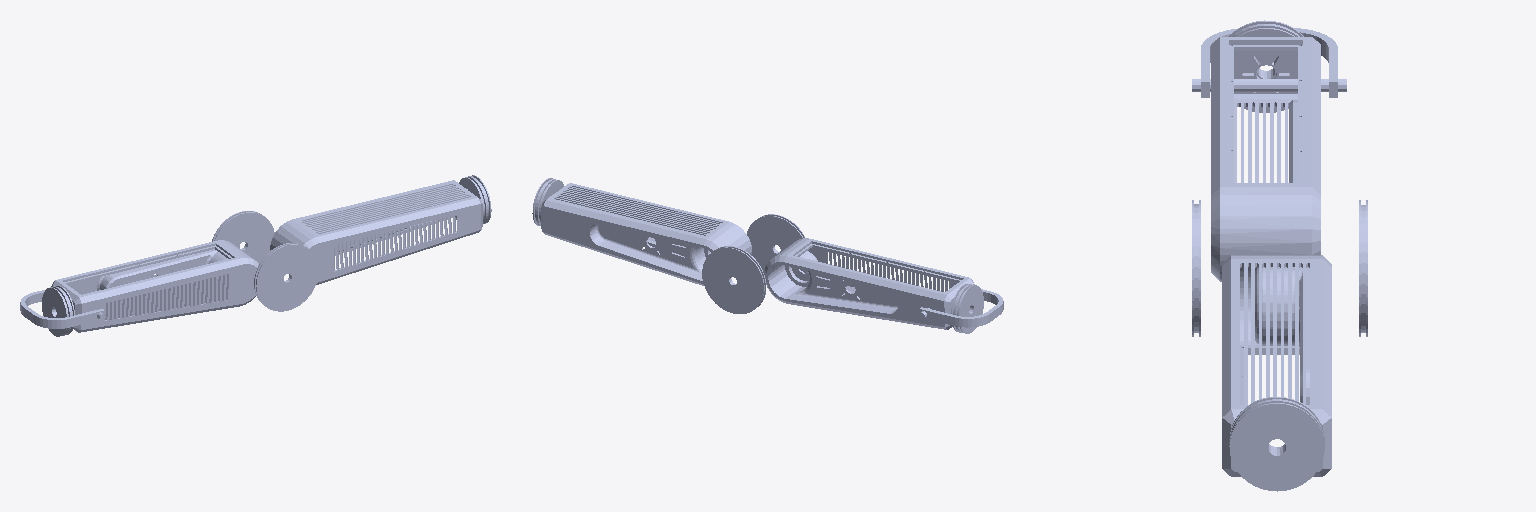
URDF robot description (urdf march 14 5 pm):
<?xml version="1.0" encoding="utf-8"?>
<!-- This URDF was automatically created by SolidWorks to URDF Exporter! Originally created by [author] ([email redacted]) 
     Commit Version: 1.6.0-4-g7f85cfe  Build Version: 1.6.7995.38578
     For more information, please see http://wiki.ros.org/sw_urdf_exporter -->
<robot
  name="urdf march 14 5 pm">
  <link
    name="base_link">
    <inertial>
      <origin
        xyz="0.0341048176202521 -0.0854022801942358 0.112184795428881"
        rpy="0 0 0" />
      <mass
        value="0.770945367382026" />
      <inertia
        ixx="0.00273358105534265"
        ixy="-2.07339807416304E-06"
        ixz="-3.6504790706455E-06"
        iyy="0.00513194515572194"
        iyz="-7.3744966419124E-05"
        izz="0.00619154781631375" />
    </inertial>
    <visual>
      <origin
        xyz="0 0 0"
        rpy="0 0 0" />
      <geometry>
        <mesh
          filename="package://urdf march 14 5 pm/meshes/base_link.STL" />
      </geometry>
      <material
        name="">
        <color
          rgba="0.792156862745098 0.819607843137255 0.933333333333333 1" />
      </material>
    </visual>
    <collision>
      <origin
        xyz="0 0 0"
        rpy="0 0 0" />
      <geometry>
        <mesh
          filename="package://urdf march 14 5 pm/meshes/base_link.STL" />
      </geometry>
    </collision>
  </link>
  <link
    name="arm right">
    <inertial>
      <origin
        xyz="0.147693755620292 -0.0307034723234414 -0.0458663364363569"
        rpy="0 0 0" />
      <mass
        value="0.926238295178665" />
      <inertia
        ixx="0.0032671185422839"
        ixy="0.00345556365717496"
        ixz="-0.000184383716541316"
        iyy="0.0199402950095604"
        iyz="3.84408530599079E-05"
        izz="0.0200980418876309" />
    </inertial>
    <visual>
      <origin
        xyz="0 0 0"
        rpy="0 0 0" />
      <geometry>
        <mesh
          filename="package://urdf march 14 5 pm/meshes/arm right.STL" />
      </geometry>
      <material
        name="">
        <color
          rgba="0.792156862745098 0.819607843137255 0.933333333333333 1" />
      </material>
    </visual>
    <collision>
      <origin
        xyz="0 0 0"
        rpy="0 0 0" />
      <geometry>
        <mesh
          filename="package://urdf march 14 5 pm/meshes/arm right.STL" />
      </geometry>
    </collision>
  </link>
  <joint
    name="pitch1_1"
    type="revolute">
    <origin
      xyz="0.129094368056422 -0.0605160670373923 0.114827219918103"
      rpy="-1.5707963267949 0.155376521193421 0" />
    <parent
      link="base_link" />
    <child
      link="arm right" />
    <axis
      xyz="0 0 -1" />
    <limit
      lower="0"
      upper="0"
      effort="0"
      velocity="0" />
  </joint>
  <link
    name="wheel2_1">
    <inertial>
      <origin
        xyz="0.047760700796397 -0.000473376384485746 -0.0632795010326599"
        rpy="0 0 0" />
      <mass
        value="0.14809674935793" />
      <inertia
        ixx="0.000102379878238783"
        ixy="-1.22197314763427E-05"
        ixz="-1.68025630456076E-06"
        iyy="0.000187907888373725"
        iyz="1.19957588949106E-05"
        izz="0.000102317709183706" />
    </inertial>
    <visual>
      <origin
        xyz="0 0 0"
        rpy="0 0 0" />
      <geometry>
        <mesh
          filename="package://urdf march 14 5 pm/meshes/wheel2_1.STL" />
      </geometry>
      <material
        name="">
        <color
          rgba="0.792156862745098 0.819607843137255 0.933333333333333 1" />
      </material>
    </visual>
    <collision>
      <origin
        xyz="0 0 0"
        rpy="0 0 0" />
      <geometry>
        <mesh
          filename="package://urdf march 14 5 pm/meshes/wheel2_1.STL" />
      </geometry>
    </collision>
  </link>
  <joint
    name="roll2_1"
    type="revolute">
    <origin
      xyz="0.398300525253841 -0.00732850455591963 -0.059842422751485"
      rpy="3.14159265358979 0.7761492821391 -1.5707963267949" />
    <parent
      link="arm right" />
    <child
      link="wheel2_1" />
    <axis
      xyz="0.137448148765483 -0.981275802189932 -0.134928894005126" />
    <limit
      lower="0"
      upper="0"
      effort="0"
      velocity="0" />
  </joint>
  <link
    name="arm left">
    <inertial>
      <origin
        xyz="0.0837032855426187 0.127701563962862 -0.0854762273206825"
        rpy="0 0 0" />
      <mass
        value="0.934896875307156" />
      <inertia
        ixx="0.0156201593013683"
        ixy="-0.00836153097743561"
        ixz="-0.000111612538948277"
        iyy="0.00800502818283903"
        iyz="-0.00017056045782221"
        izz="0.0204248713539629" />
    </inertial>
    <visual>
      <origin
        xyz="0 0 0"
        rpy="0 0 0" />
      <geometry>
        <mesh
          filename="package://urdf march 14 5 pm/meshes/arm left.STL" />
      </geometry>
      <material
        name="">
        <color
          rgba="0.792156862745098 0.819607843137255 0.933333333333333 1" />
      </material>
    </visual>
    <collision>
      <origin
        xyz="0 0 0"
        rpy="0 0 0" />
      <geometry>
        <mesh
          filename="package://urdf march 14 5 pm/meshes/arm left.STL" />
      </geometry>
    </collision>
  </link>
  <joint
    name="pitch1_2"
    type="revolute">
    <origin
      xyz="-0.0609056319435783 -0.032516092037392 0.114827219918103"
      rpy="1.5707963267949 0.963061067969326 -3.14159265358979" />
    <parent
      link="base_link" />
    <child
      link="arm left" />
    <axis
      xyz="0 0 -1" />
    <limit
      lower="0"
      upper="0"
      effort="0"
      velocity="0" />
  </joint>
  <link
    name="wheel2_2">
    <inertial>
      <origin
        xyz="-0.295787810575174 0.104773090790362 0.181203468170097"
        rpy="0 0 0" />
      <mass
        value="0.148096749357929" />
      <inertia
        ixx="0.00014740423663835"
        ixy="3.50759667167694E-05"
        ixz="-2.86310746498393E-05"
        iyy="0.000126993219737585"
        iyz="-2.14879944042932E-05"
        izz="0.000118208019420278" />
    </inertial>
    <visual>
      <origin
        xyz="0 0 0"
        rpy="0 0 0" />
      <geometry>
        <mesh
          filename="package://urdf march 14 5 pm/meshes/wheel2_2.STL" />
      </geometry>
      <material
        name="">
        <color
          rgba="0.792156862745098 0.819607843137255 0.933333333333333 1" />
      </material>
    </visual>
    <collision>
      <origin
        xyz="0 0 0"
        rpy="0 0 0" />
      <geometry>
        <mesh
          filename="package://urdf march 14 5 pm/meshes/wheel2_2.STL" />
      </geometry>
    </collision>
  </link>
  <joint
    name="roll2_2"
    type="revolute">
    <origin
      xyz="0.330776432232011 -0.0073285045559196 -0.0878423977514851"
      rpy="3.14159265358979 0.549642206871802 -1.5707963267949" />
    <parent
      link="arm left" />
    <child
      link="wheel2_2" />
    <axis
      xyz="-0.718223926858589 -0.539036410966623 0.439993339199641" />
    <limit
      lower="0"
      upper="0"
      effort="0"
      velocity="0" />
  </joint>
  <link
    name="camera link">
    <inertial>
      <origin
        xyz="0.0750000000000005 0.00740660654895053 -0.375458448797212"
        rpy="0 0 0" />
      <mass
        value="0.0698816348006092" />
      <inertia
        ixx="0.000124456436337246"
        ixy="5.54148528710524E-19"
        ixz="1.15304684072782E-19"
        iyy="0.000286322250421284"
        iyz="5.67768286071316E-05"
        izz="0.000324063844446407" />
    </inertial>
    <visual>
      <origin
        xyz="0 0 0"
        rpy="0 0 0" />
      <geometry>
        <mesh
          filename="package://urdf march 14 5 pm/meshes/camera link.STL" />
      </geometry>
      <material
        name="">
        <color
          rgba="0.792156862745098 0.819607843137255 0.933333333333333 1" />
      </material>
    </visual>
    <collision>
      <origin
        xyz="0 0 0"
        rpy="0 0 0" />
      <geometry>
        <mesh
          filename="package://urdf march 14 5 pm/meshes/camera link.STL" />
      </geometry>
    </collision>
  </link>
  <joint
    name="pitch3_1"
    type="revolute">
    <origin
      xyz="0.349275314195647 0 -0.00950000000000037"
      rpy="1.23269270214181 1.5707963267949 0" />
    <parent
      link="arm left" />
    <child
      link="camera link" />
    <axis
      xyz="1 0 0" />
    <limit
      lower="0"
      upper="0"
      effort="0"
      velocity="0" />
  </joint>
  <link
    name="wheelcentre1">
    <inertial>
      <origin
        xyz="-6.93889390390723E-18 -5.55111512312578E-17 0.00499999999998527"
        rpy="0 0 0" />
      <mass
        value="0.162184720741573" />
      <inertia
        ixx="0.000219883669596311"
        ixy="5.9292306307801E-21"
        ixz="2.3028350281132E-22"
        iyy="0.000219883669596311"
        iyz="2.26054340074541E-23"
        izz="0.000436921907036522" />
    </inertial>
    <visual>
      <origin
        xyz="0 0 0"
        rpy="0 0 0" />
      <geometry>
        <mesh
          filename="package://urdf march 14 5 pm/meshes/wheelcentre1.STL" />
      </geometry>
      <material
        name="">
        <color
          rgba="0.792156862745098 0.819607843137255 0.933333333333333 1" />
      </material>
    </visual>
    <collision>
      <origin
        xyz="0 0 0"
        rpy="0 0 0" />
      <geometry>
        <mesh
          filename="package://urdf march 14 5 pm/meshes/wheelcentre1.STL" />
      </geometry>
    </collision>
  </link>
  <joint
    name="roll1_1"
    type="revolute">
    <origin
      xyz="0.0339714708239965 -0.00951609203739177 0.114827219918101"
      rpy="1.5707963267949 0.0642886543637993 0" />
    <parent
      link="base_link" />
    <child
      link="wheelcentre1" />
    <axis
      xyz="0 0 -1" />
    <limit
      lower="0"
      upper="0"
      effort="0"
      velocity="0" />
  </joint>
  <link
    name="wheelcentre2">
    <inertial>
      <origin
        xyz="0 -2.77555756156289E-17 0.00499999999998529"
        rpy="0 0 0" />
      <mass
        value="0.162184720741573" />
      <inertia
        ixx="0.000219883669596311"
        ixy="6.7762635780344E-21"
        ixz="-5.42049942532151E-23"
        iyy="0.000219883669596311"
        iyz="4.70651748977798E-23"
        izz="0.000436921907036522" />
    </inertial>
    <visual>
      <origin
        xyz="0 0 0"
        rpy="0 0 0" />
      <geometry>
        <mesh
          filename="package://urdf march 14 5 pm/meshes/wheelcentre2.STL" />
      </geometry>
      <material
        name="">
        <color
          rgba="0.792156862745098 0.819607843137255 0.933333333333333 1" />
      </material>
    </visual>
    <collision>
      <origin
        xyz="0 0 0"
        rpy="0 0 0" />
      <geometry>
        <mesh
          filename="package://urdf march 14 5 pm/meshes/wheelcentre2.STL" />
      </geometry>
    </collision>
  </link>
  <joint
    name="roll1_2"
    type="revolute">
    <origin
      xyz="0.0339714708239965 -0.191516092037393 0.114827219918102"
      rpy="1.5707963267949 0.130854466309513 0" />
    <parent
      link="base_link" />
    <child
      link="wheelcentre2" />
    <axis
      xyz="0 0 -1" />
    <limit
      lower="0"
      upper="0"
      effort="0"
      velocity="0" />
  </joint>
</robot>

--- What the picture shows (computed from the rendered views, not written in the file) ---
Views: 3 orthographic renders of the robot side by side, from view 1: azimuth 30°, elevation 25°; view 2: azimuth 150°, elevation 25°; view 3: azimuth 270°, elevation 25°.
Model urdf march 14 5 pm with 8 links and 7 joints (7 revolute), rooted at base_link, posed all joints at 0.
Links seen in each view (by area): view 1: arm left, arm right, wheelcentre2, wheelcentre1, camera link, wheel2_2, wheel2_1; view 2: arm right, arm left, wheelcentre1, wheelcentre2, camera link, wheel2_2, wheel2_1; view 3: arm left, arm right, wheel2_1, camera link, wheelcentre2, wheelcentre1, wheel2_2.
Boxes of the visible links, <box> form: arm left: <box>51,240,258,332</box>; arm right: <box>270,180,482,284</box>; wheelcentre2: <box>254,243,318,311</box>; wheelcentre1: <box>212,211,274,263</box>; camera link: <box>20,290,104,328</box>; wheel2_2: <box>42,286,74,336</box>; wheel2_1: <box>459,175,491,223</box>; arm right: <box>541,183,751,285</box>; arm left: <box>764,238,974,329</box>; wheelcentre1: <box>702,246,765,313</box>; wheelcentre2: <box>747,214,804,272</box>; camera link: <box>919,289,1003,327</box>; wheel2_2: <box>951,284,983,333</box>; wheel2_1: <box>532,178,563,225</box>; arm left: <box>1192,37,1346,281</box>; arm right: <box>1222,255,1331,476</box>; wheel2_1: <box>1229,397,1324,491</box>; camera link: <box>1201,28,1337,97</box>; wheelcentre2: <box>1192,200,1200,336</box>; wheelcentre1: <box>1359,200,1367,336</box>; wheel2_2: <box>1229,20,1303,112</box>.
Bounding box of the posed robot: 1.09 × 0.192 × 0.1502 m (x, y, z).
7 mesh visuals loaded from 8 distinct referenced files (7 binary STL); not drawn: 1 (reference not matched to a file when rendering).